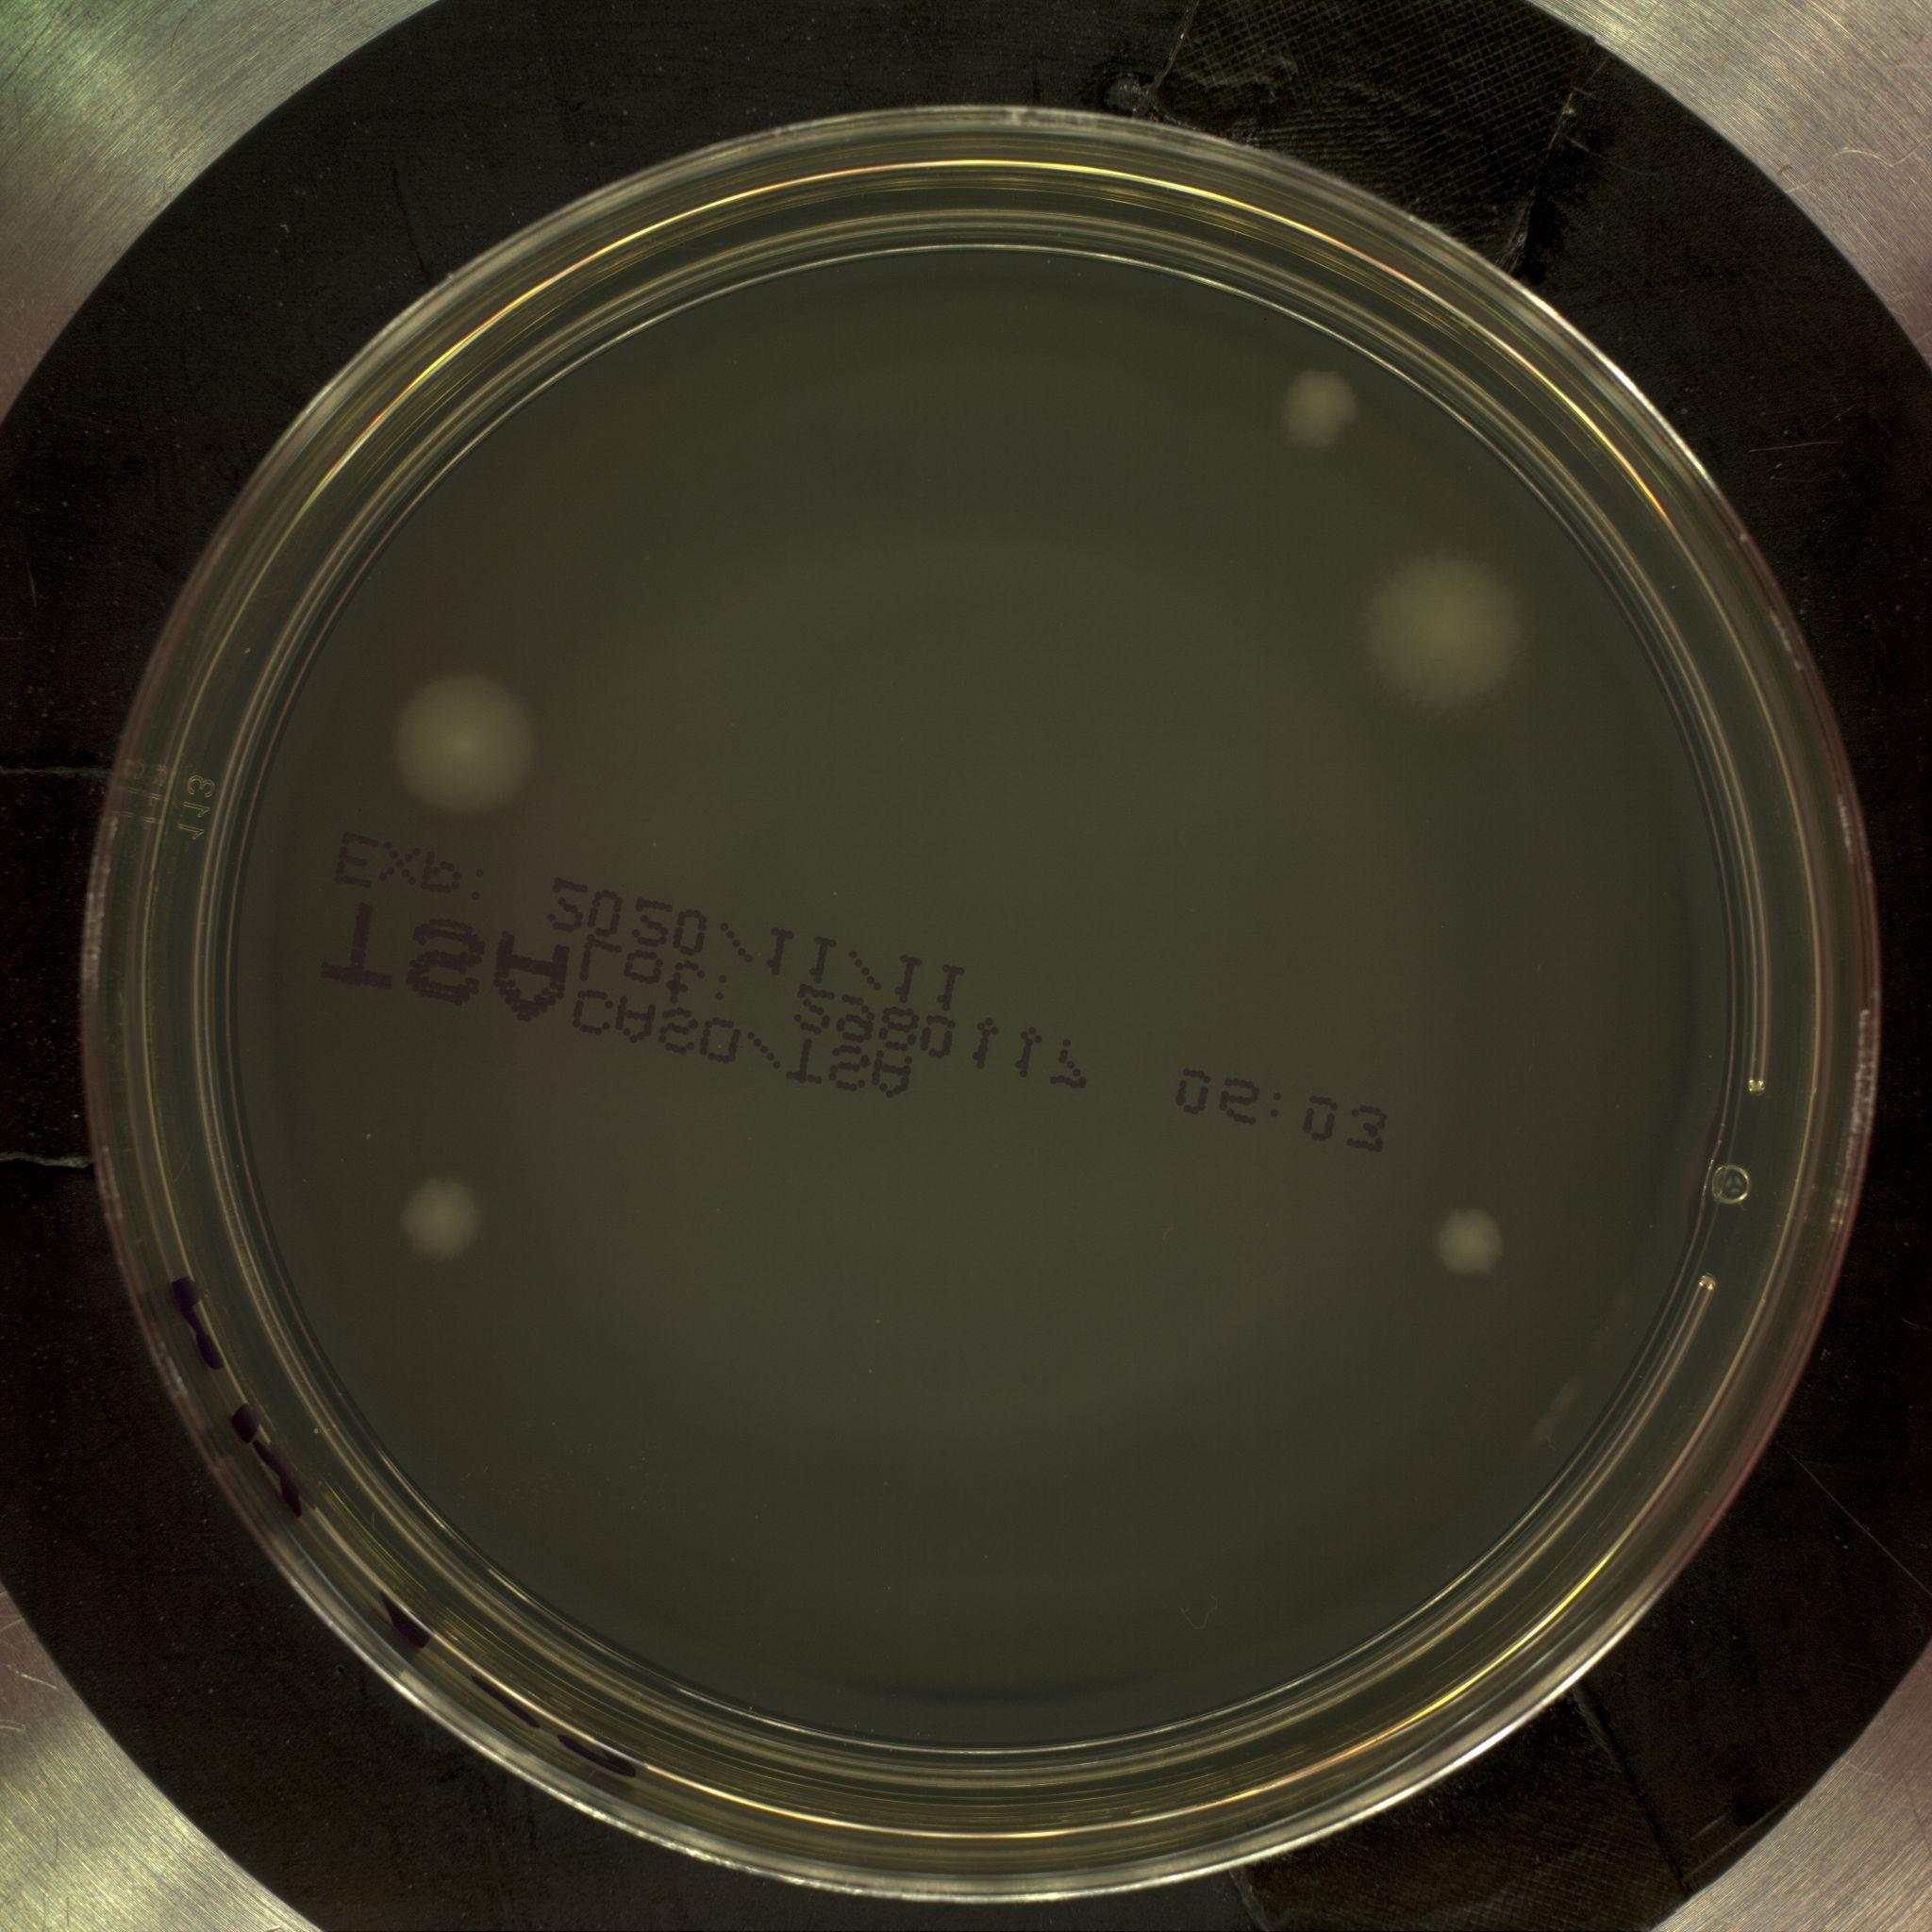e. coli: (1346, 552, 1537, 727), (387, 660, 540, 830), (393, 1161, 497, 1269), (1274, 349, 1369, 462), (1421, 1203, 1520, 1306)
